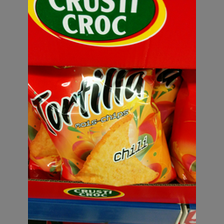chips: (29, 65, 179, 185)
